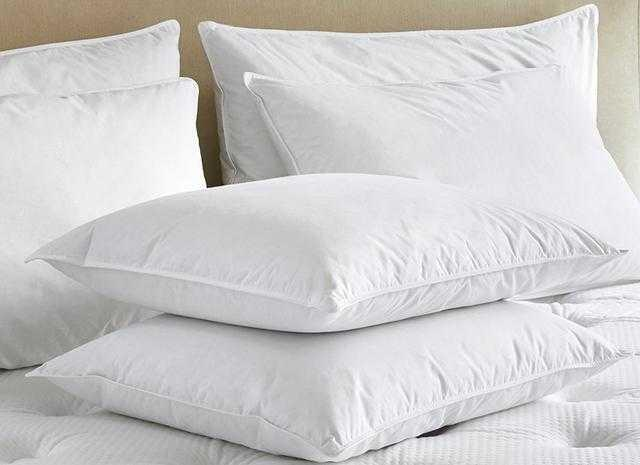pillow: (22, 170, 634, 334), (24, 298, 630, 462), (190, 18, 628, 239), (230, 64, 640, 288), (1, 98, 236, 350), (0, 13, 178, 95)
